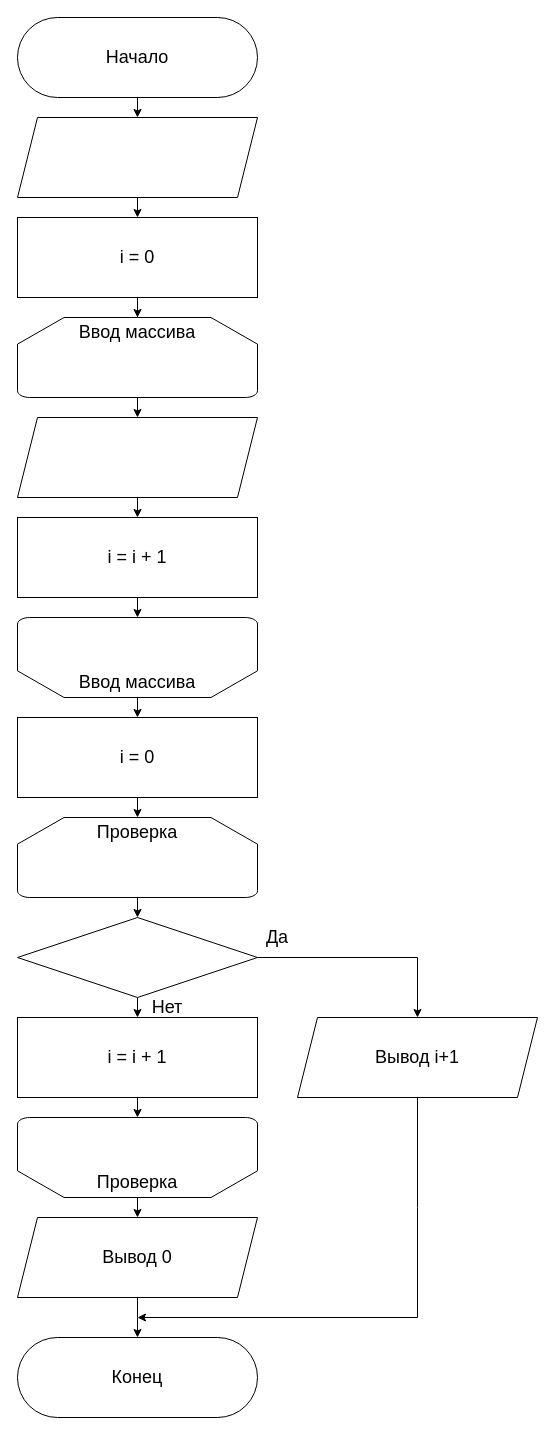
Some shapes in this 555 by 1435 pixel diagram are drawn without their labels. The shapes that lost their labels are listed below. From the top down, each one's box as (x1, y1, x2, y2) in pixels, then its label:
(16, 116, 258, 198): Ввод N
(16, 316, 258, 398): i = N
(16, 416, 258, 498): Ввод a[i]
(16, 816, 258, 898): i = N-1
(16, 916, 258, 998): a[i] > a[i+1] ?
